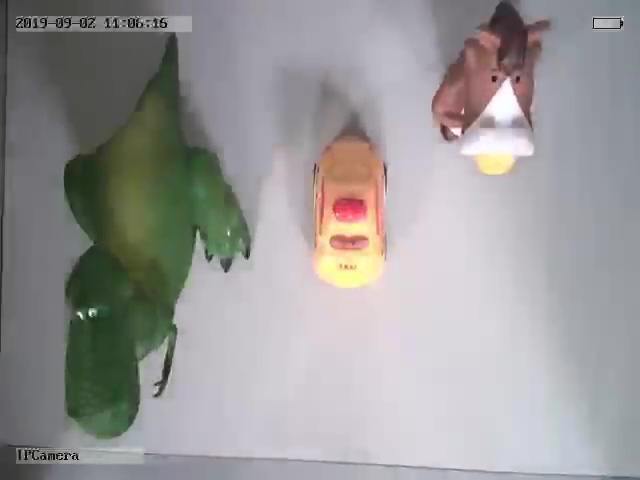car: (310, 131, 391, 289)
horse: (430, 3, 552, 176)
rex: (63, 37, 251, 440)
